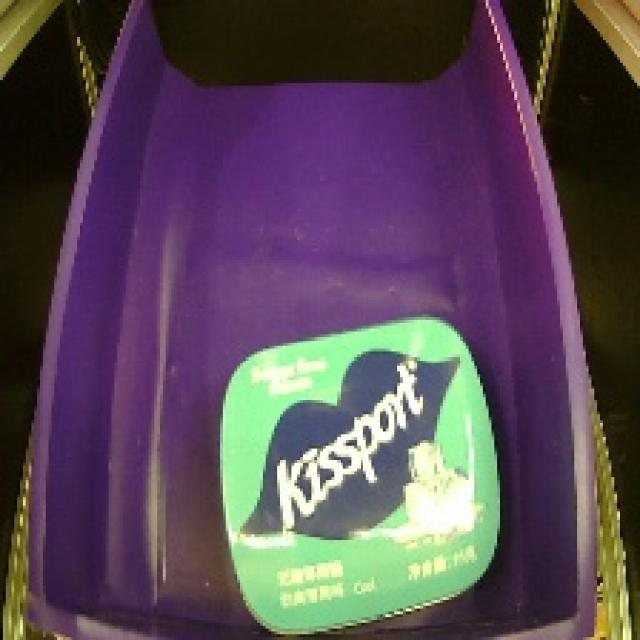metal: (198, 299, 514, 640)
